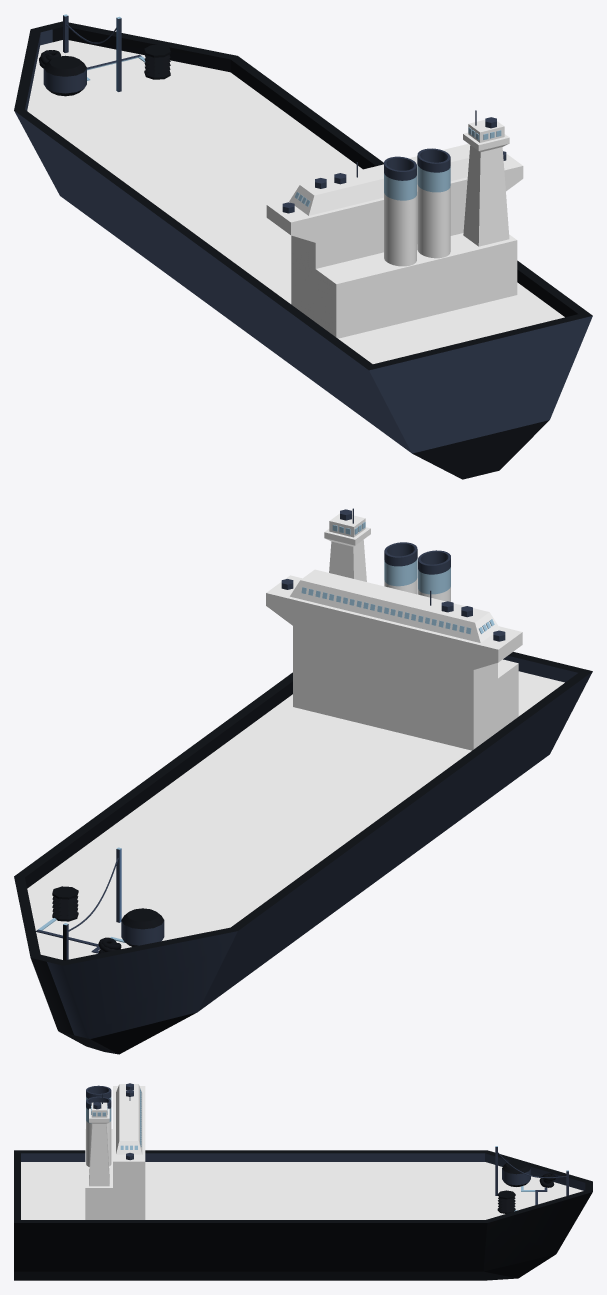
File: boat_cargo.fbx
The picture shows the model from 3 angles, top to bottom: view 1: azimuth 30°, elevation 25°; view 2: azimuth 150°, elevation 25°; view 3: azimuth 270°, elevation 25°; orthographic projection. The views are drawn at different scales.
Visible parts, largest first — view 1: boat_cargo; view 2: boat_cargo; view 3: boat_cargo.
Boxes of the visible parts, x1,y1,x2,y2 form: boat_cargo: (14,14,592,479); boat_cargo: (14,508,592,1054); boat_cargo: (14,1083,592,1280).
Size of the model in its own units: 1329 by 1645 by 4303.
1 material, 1 textured.
